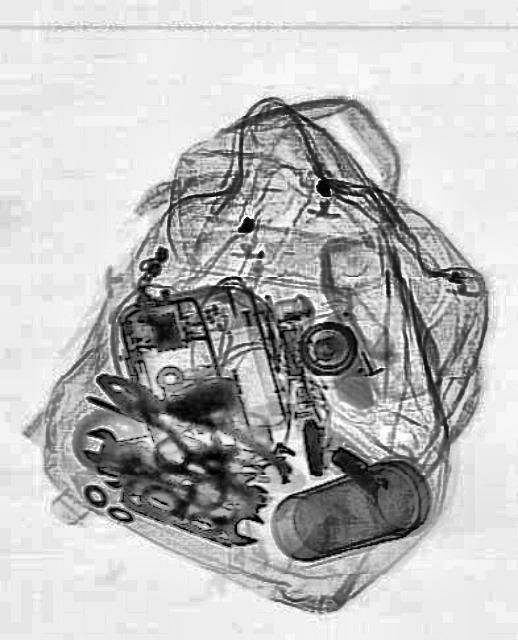Pliers: (82, 345, 294, 519)
Wrench: (76, 419, 194, 507), (180, 493, 262, 549)
